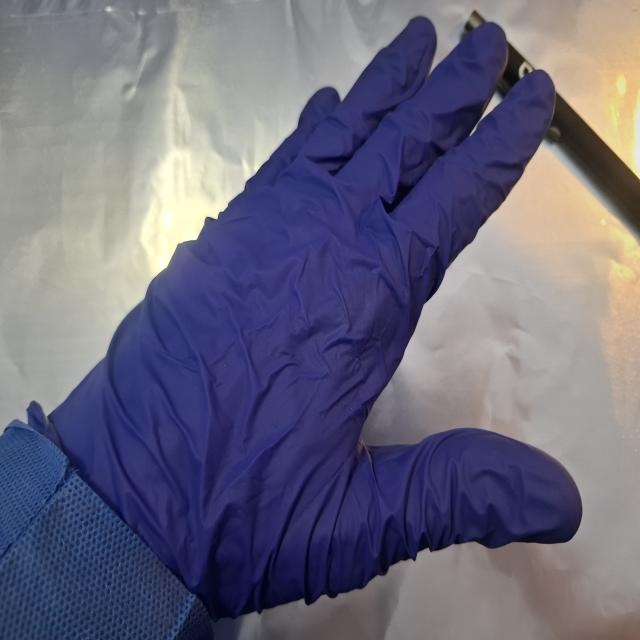glove_on: (23, 11, 589, 623)
